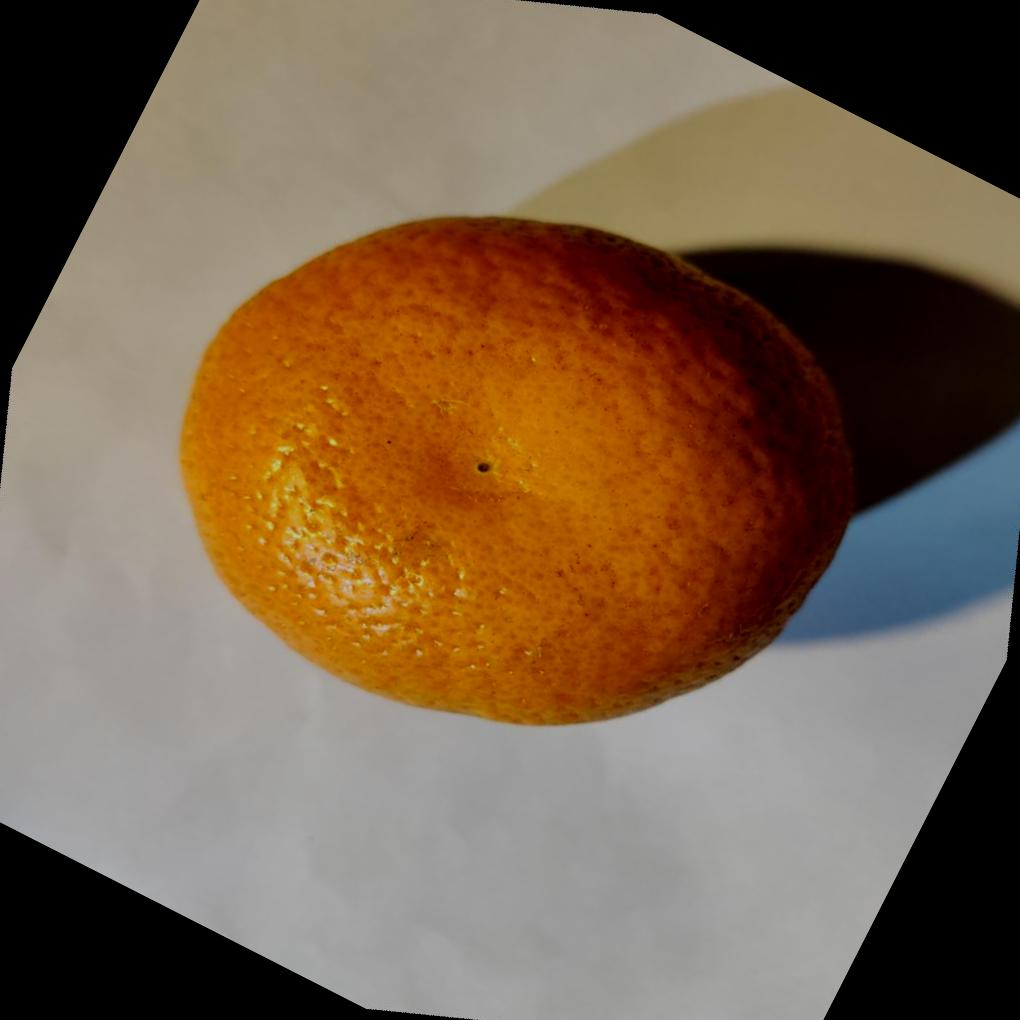FreshGuava: (177, 210, 858, 725)
